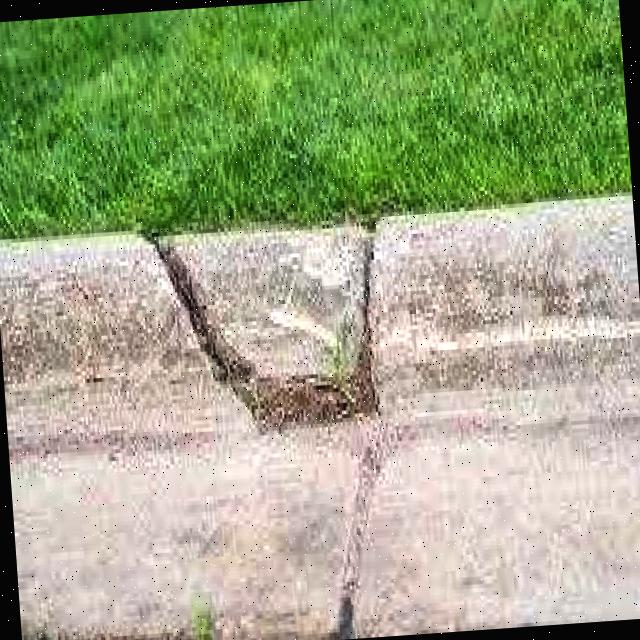curb: (1, 196, 640, 475)
